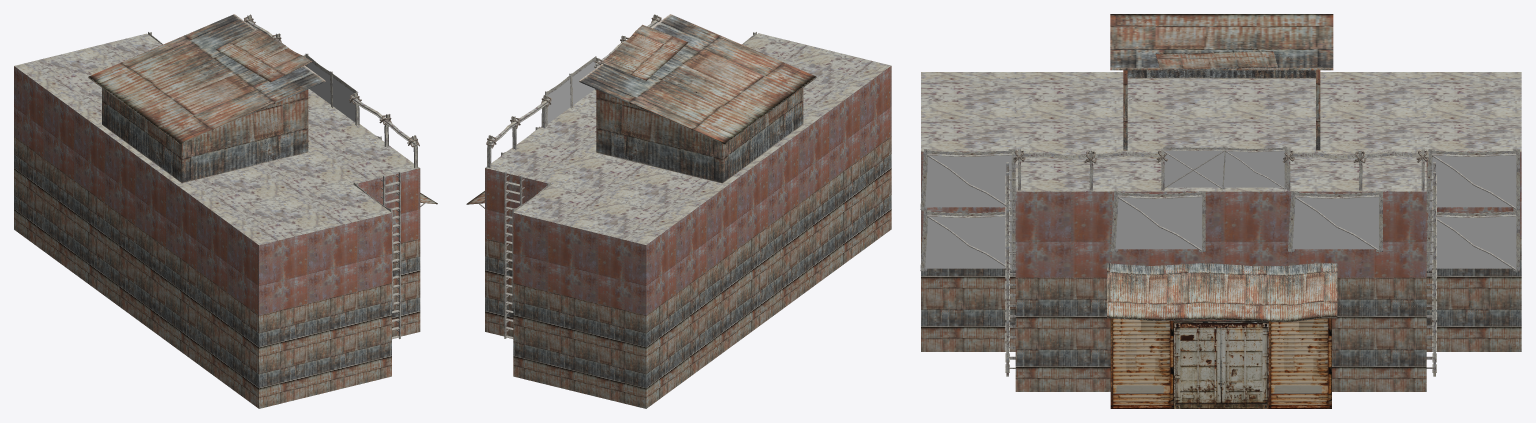
Rendered from house01.fbx.
The picture shows the model from 3 angles, left to right: view 1: azimuth 30°, elevation 25°; view 2: azimuth 150°, elevation 25°; view 3: azimuth 270°, elevation 25°; orthographic projection. The views are drawn at different scales.
Visible parts, largest first — view 1: Mesh; view 2: Mesh; view 3: Mesh.
Part boxes in pixels (x1,y1,x2,y2): Mesh: [14, 14, 437, 408]; Mesh: [466, 14, 891, 408]; Mesh: [920, 14, 1521, 408].
Bounding box in the file's own units: 1162 × 1024 × 1901.
